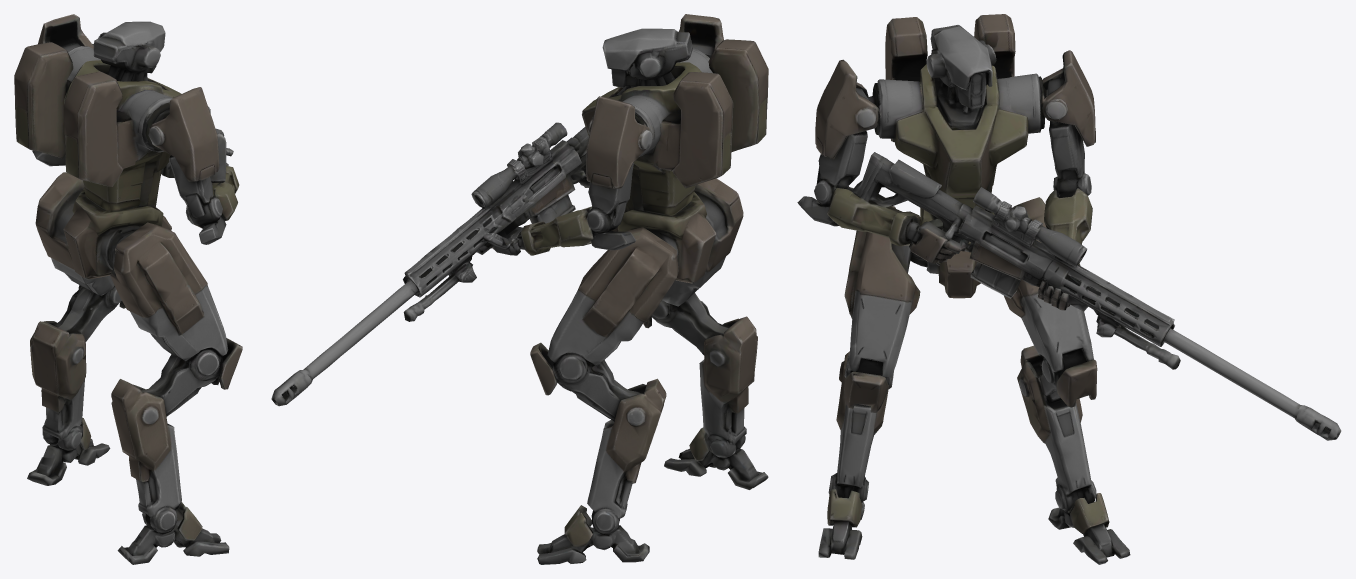
File: 8c6310bb-a262-46dc-b144-c5d6d36d11b2-pbr_model.glb
3 views of the same model, side by side, from view 1: azimuth 30°, elevation 25°; view 2: azimuth 150°, elevation 25°; view 3: azimuth 270°, elevation 25° (orthographic). The views are drawn at different scales.
Parts seen in each view (by area): view 1: tripo_node_8c6310bb-a262-46dc-b144-c5d6d36d11b2; view 2: tripo_node_8c6310bb-a262-46dc-b144-c5d6d36d11b2; view 3: tripo_node_8c6310bb-a262-46dc-b144-c5d6d36d11b2.
Part boxes in pixels (x1,y1,x2,y2): tripo_node_8c6310bb-a262-46dc-b144-c5d6d36d11b2: (14,14,242,564); tripo_node_8c6310bb-a262-46dc-b144-c5d6d36d11b2: (271,14,768,564); tripo_node_8c6310bb-a262-46dc-b144-c5d6d36d11b2: (797,14,1341,564).
Size of the model in its own units: 0.6353 by 1 by 0.9763.
Materials: 1 (1 with a texture image).
